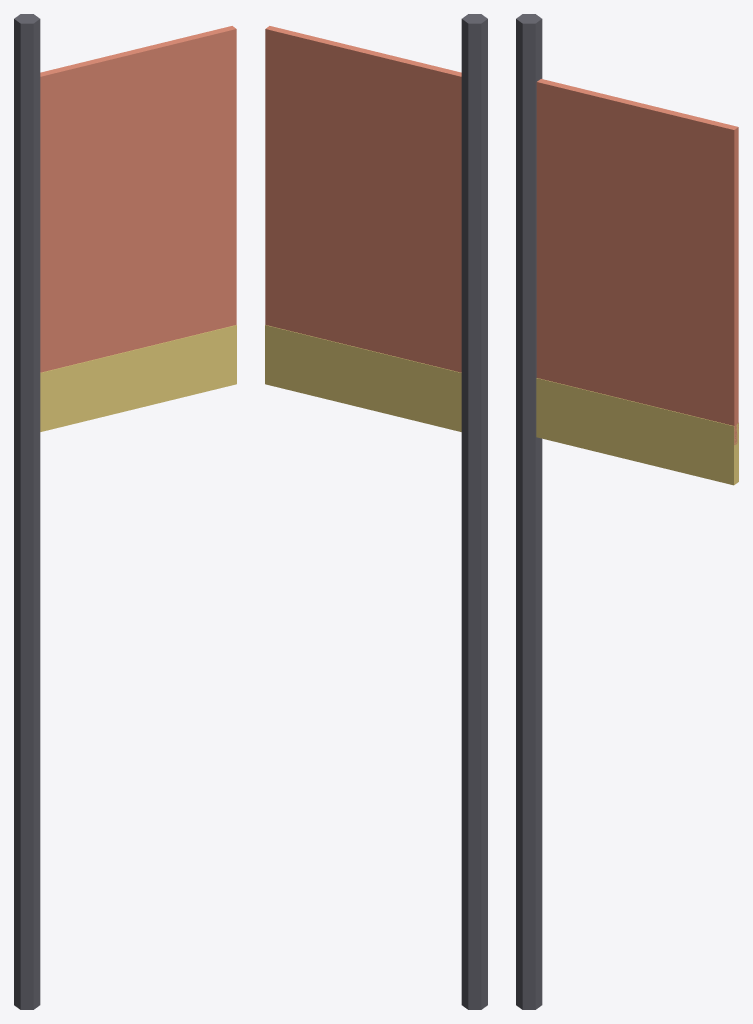
The model's file is banner.glb.
3 views of the same model, side by side, from view 1: azimuth 30°, elevation 25°; view 2: azimuth 150°, elevation 25°; view 3: azimuth 330°, elevation 25° (orthographic).
Parts seen in each view (by area): view 1: SCN_banner; view 2: SCN_banner; view 3: SCN_banner.
Part boxes in pixels (<box>): SCN_banner: <box>14,14,236,1009</box>; SCN_banner: <box>265,14,487,1009</box>; SCN_banner: <box>516,14,738,1009</box>.
Bounding box in the file's own units: 1.15 × 5 × 0.12.
